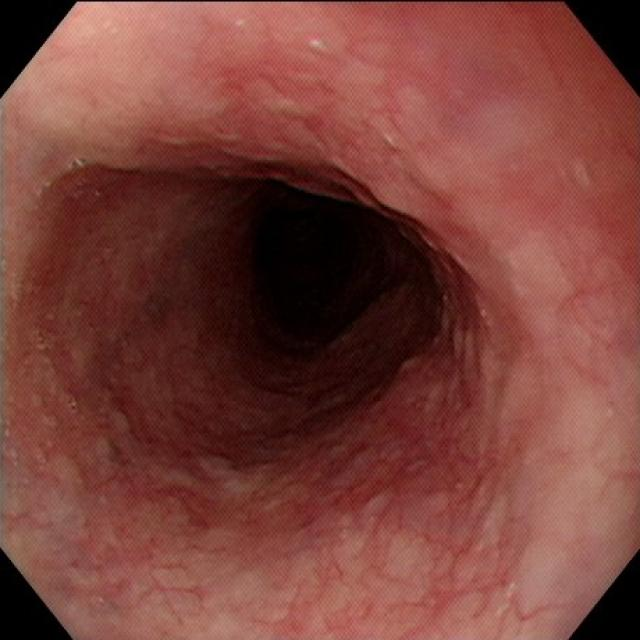A: (154, 465, 229, 539), (88, 376, 163, 450), (391, 348, 446, 407)
E: (233, 197, 384, 351)
